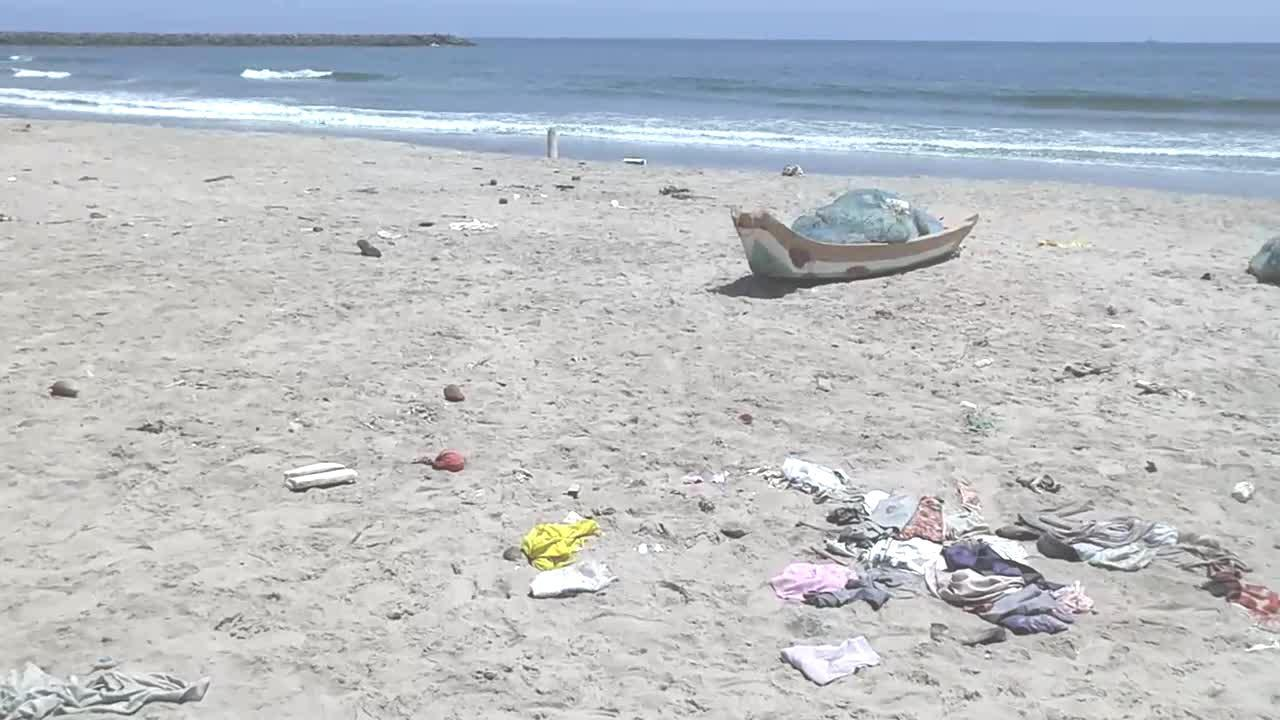large collection of objects: (734, 185, 976, 298), (1238, 236, 1280, 288)
obj: (770, 470, 1164, 652), (3, 659, 214, 714), (520, 509, 604, 574), (1192, 574, 1280, 634), (1156, 526, 1256, 578), (530, 554, 614, 602), (278, 458, 361, 497), (406, 448, 466, 474), (48, 379, 82, 406), (350, 236, 382, 264), (436, 382, 466, 407)
sand/background: (0, 0, 1279, 199)
